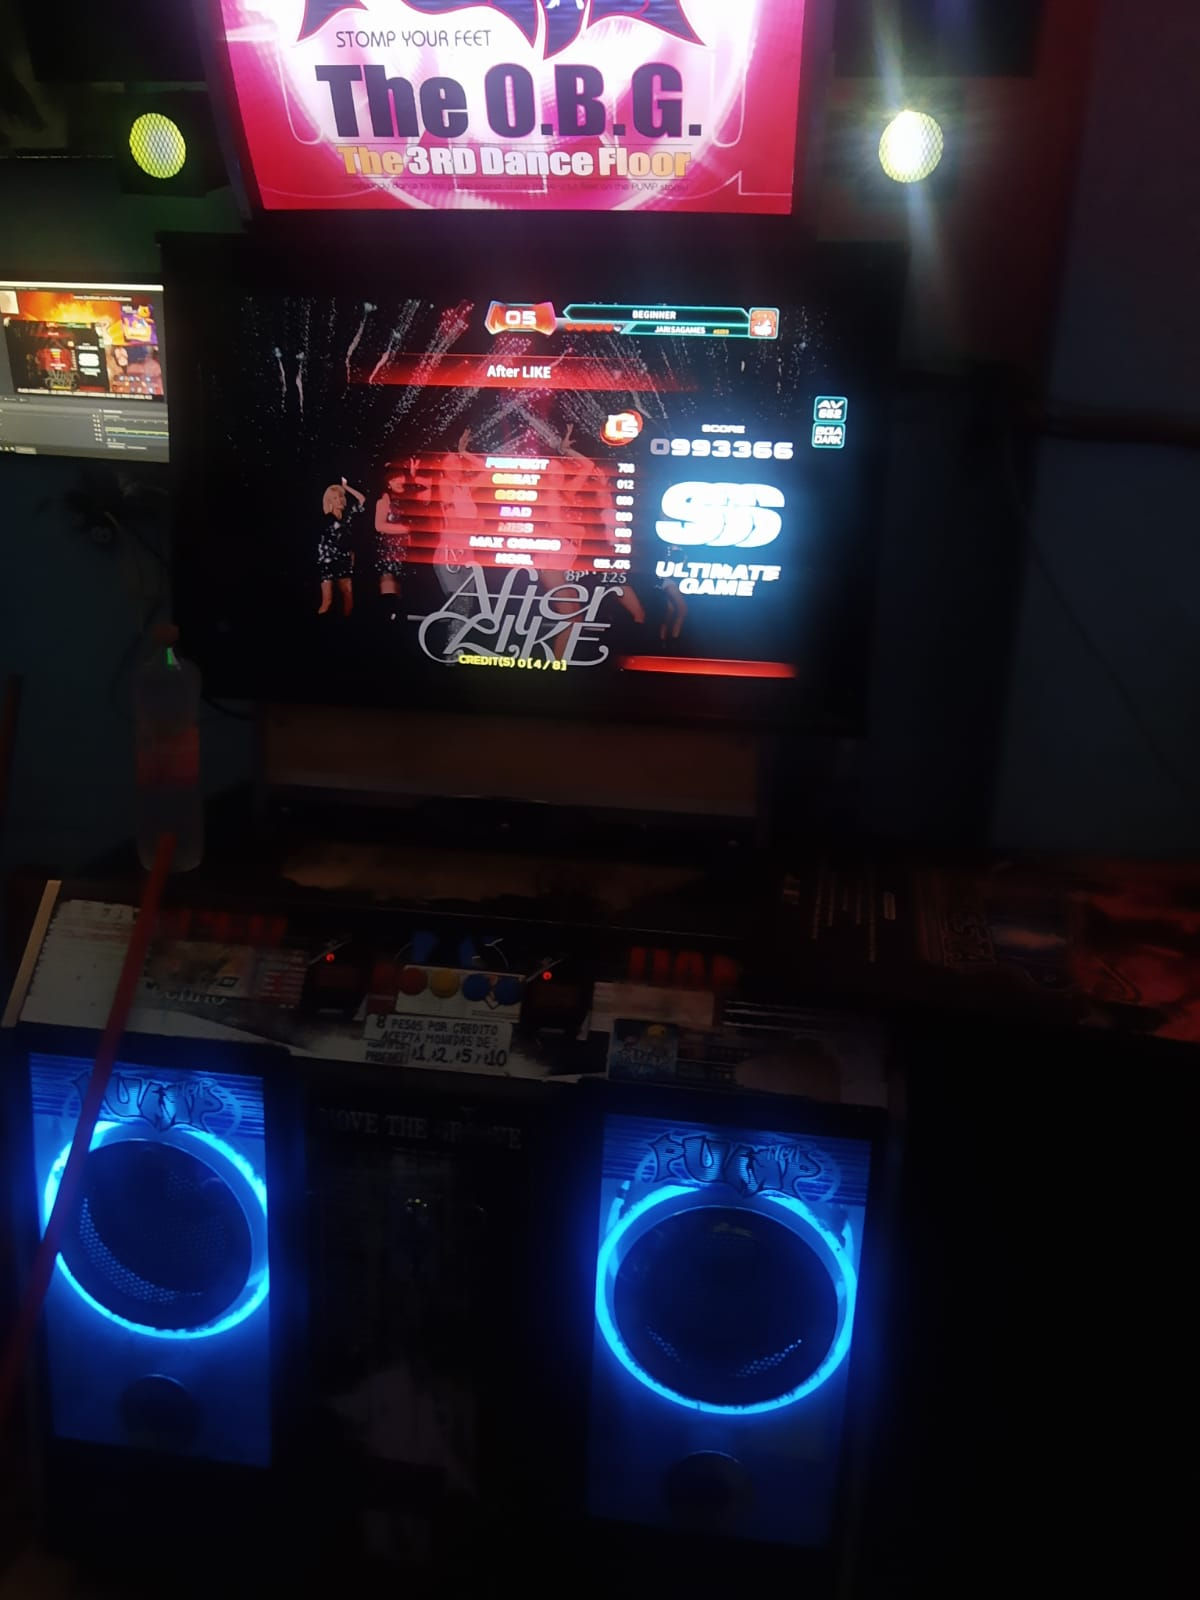difficulty: (585, 389, 633, 461)
fullscore: (442, 315, 839, 649)
rank: (644, 464, 808, 553)
score: (652, 421, 811, 466)
song_name: (440, 346, 662, 387)
